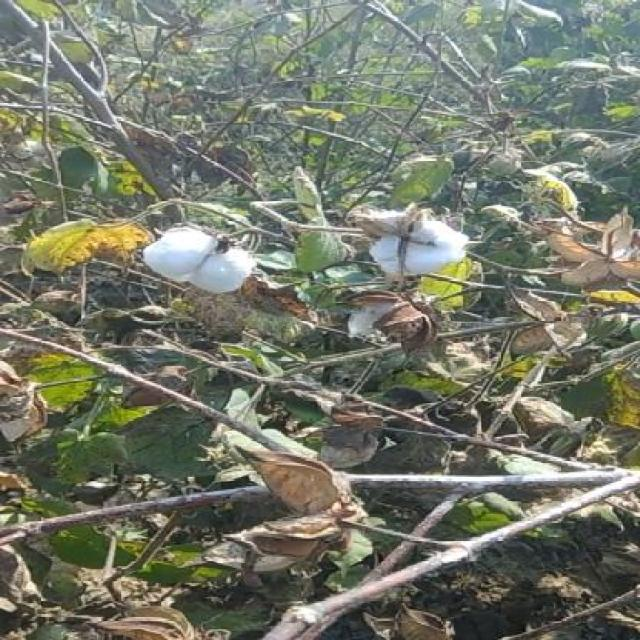cotton_ready: (93, 219, 281, 304), (347, 203, 471, 294)
